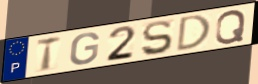2: (107, 25, 138, 62)
D: (175, 13, 213, 54)
G: (68, 31, 101, 66)
Q: (214, 8, 248, 45)
S: (140, 19, 175, 57)
T: (35, 34, 63, 73)
